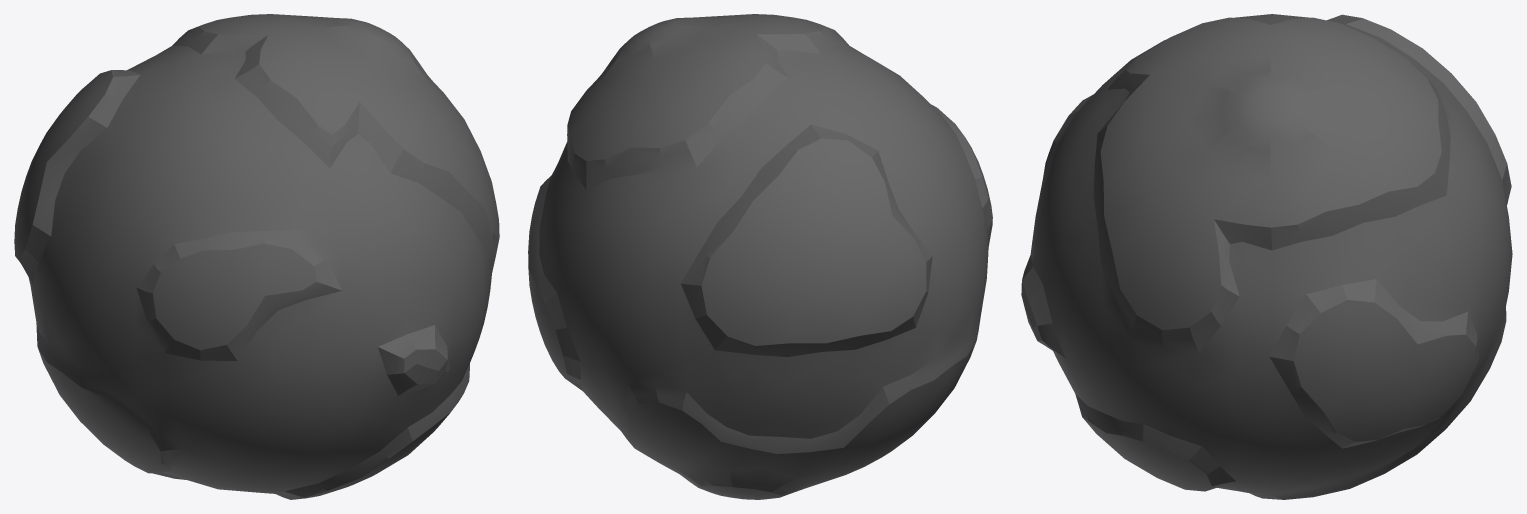
The model's file is Planet2.gltf.
3 views of the same model, side by side, from view 1: azimuth 30°, elevation 25°; view 2: azimuth 150°, elevation 25°; view 3: azimuth 270°, elevation 25° (orthographic). The views are drawn at different scales.
Parts seen in each view (by area): view 1: Planet2; view 2: Planet2; view 3: Planet2.
Boxes of the visible parts, box(x1,y1,x2,y2) form: Planet2: box(14, 14, 499, 499); Planet2: box(528, 14, 992, 499); Planet2: box(1021, 14, 1512, 499).
Size of the model in its own units: 5.37 by 5.56 by 5.39.
1 material, 1 textured.
